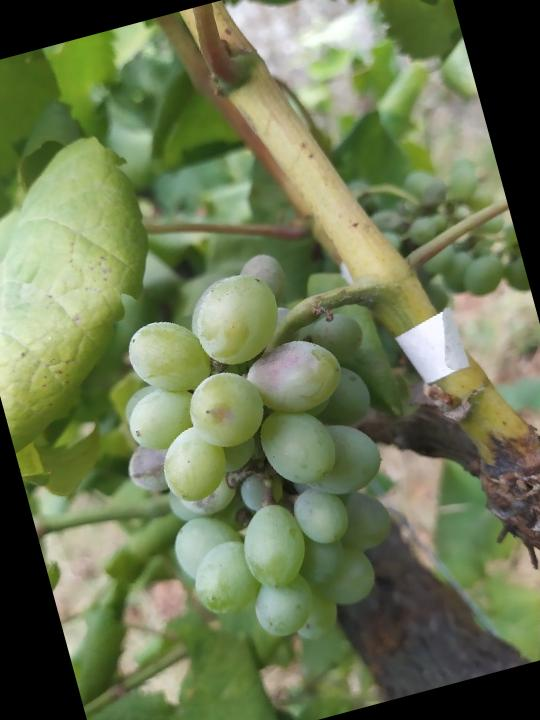grape: (78, 235, 445, 682)
